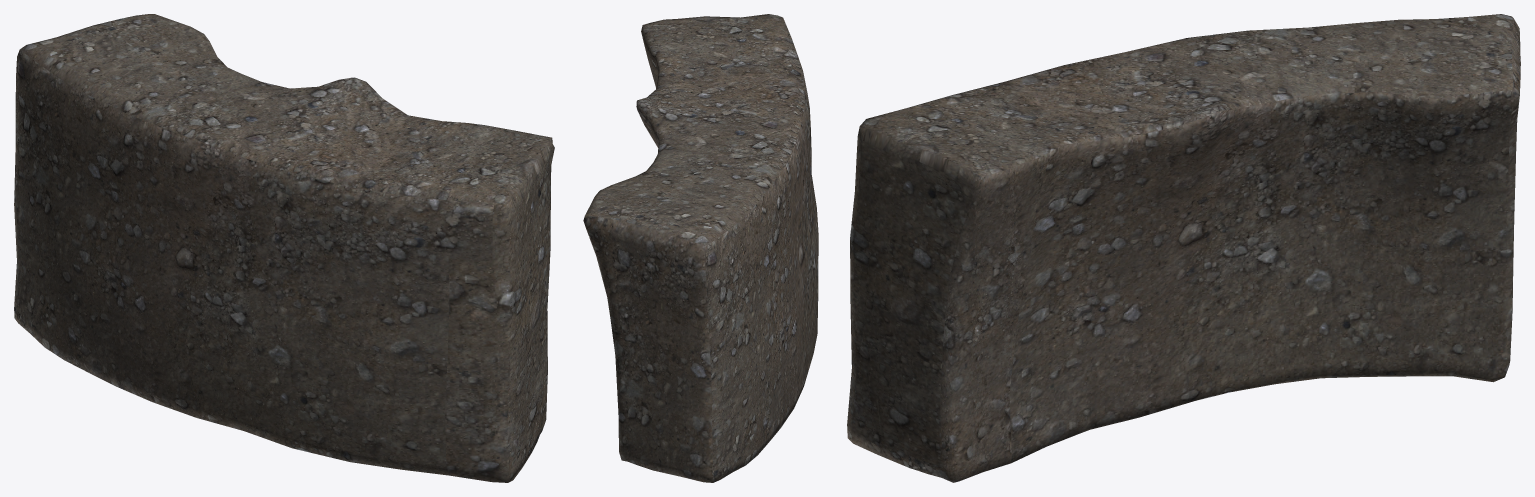
The model's file is cave_modules_cliff_turn_1.dae.
3 renders of one model, left to right at view 1: azimuth 30°, elevation 25°; view 2: azimuth 150°, elevation 25°; view 3: azimuth 270°, elevation 25°, orthographic. The views are drawn at different scales.
Parts seen in each view (by area): view 1: cliff_turn_1; view 2: cliff_turn_1; view 3: cliff_turn_1.
Part boxes in pixels (x1=…): cliff_turn_1: x1=14, y1=14, x2=554, y2=482; cliff_turn_1: x1=583, y1=14, x2=818, y2=482; cliff_turn_1: x1=847, y1=14, x2=1520, y2=482.
Size of what is drawn, in the model's own units: 4.45 by 3.96 by 7.19.
